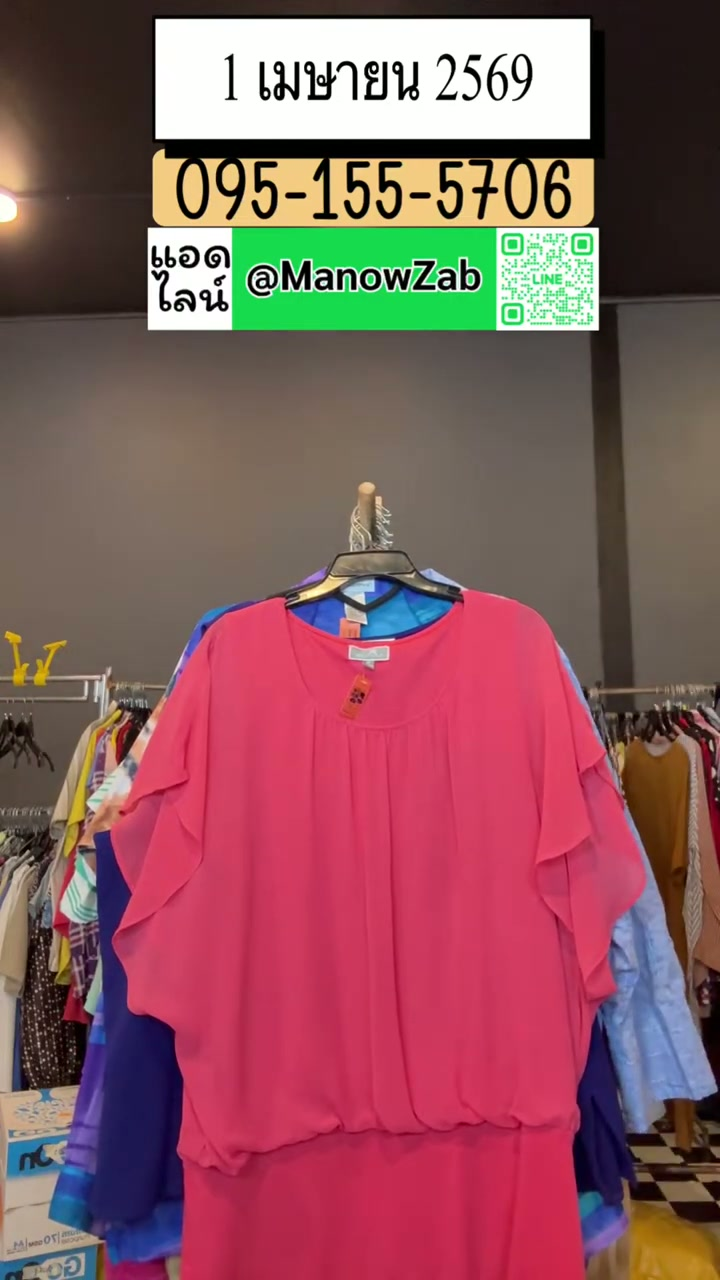display_shirt: (113, 591, 644, 1279)
